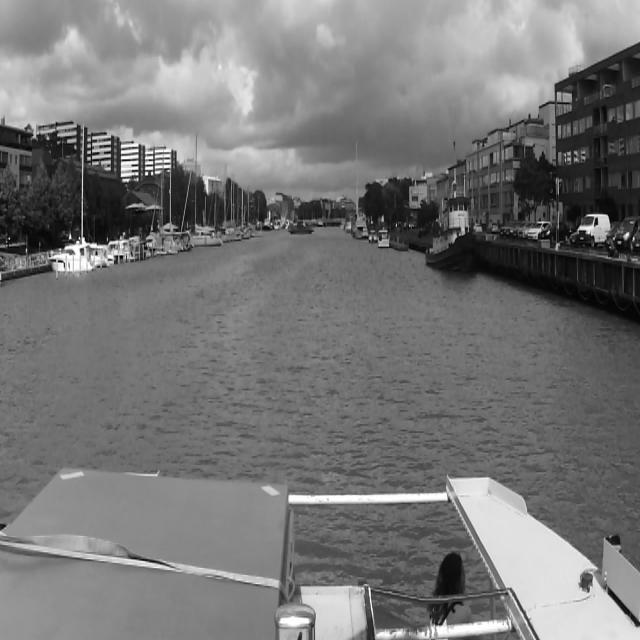ship: (425, 137, 483, 275), (67, 124, 116, 270), (178, 125, 224, 248), (144, 150, 188, 252), (48, 245, 96, 273), (349, 142, 359, 236), (106, 236, 138, 265), (376, 224, 392, 252), (353, 214, 367, 241), (288, 221, 312, 234), (368, 228, 378, 246), (344, 214, 352, 234)
